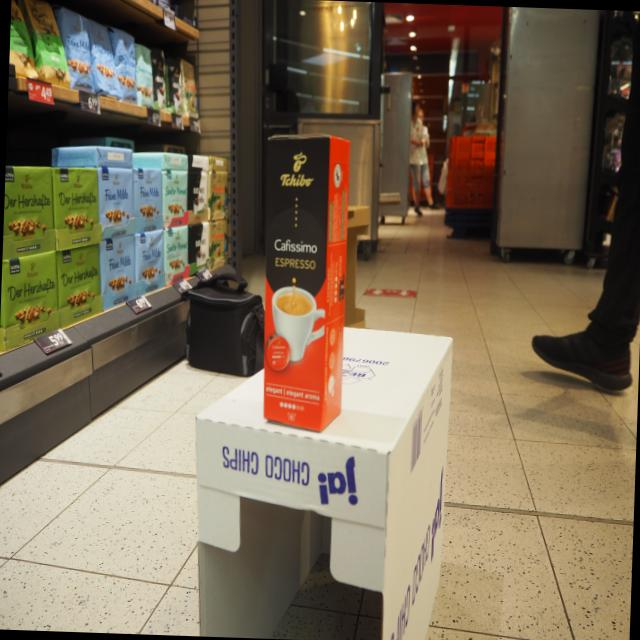Simo Es Elegant: (259, 133, 355, 437)
